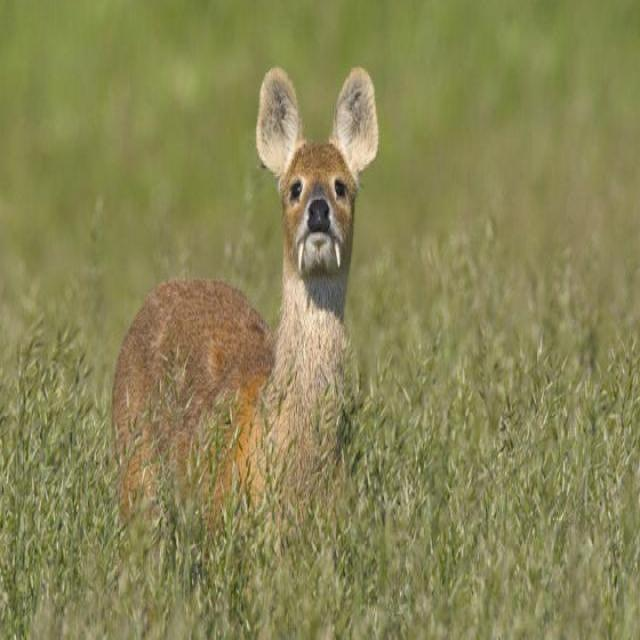deer: (103, 59, 384, 546)
